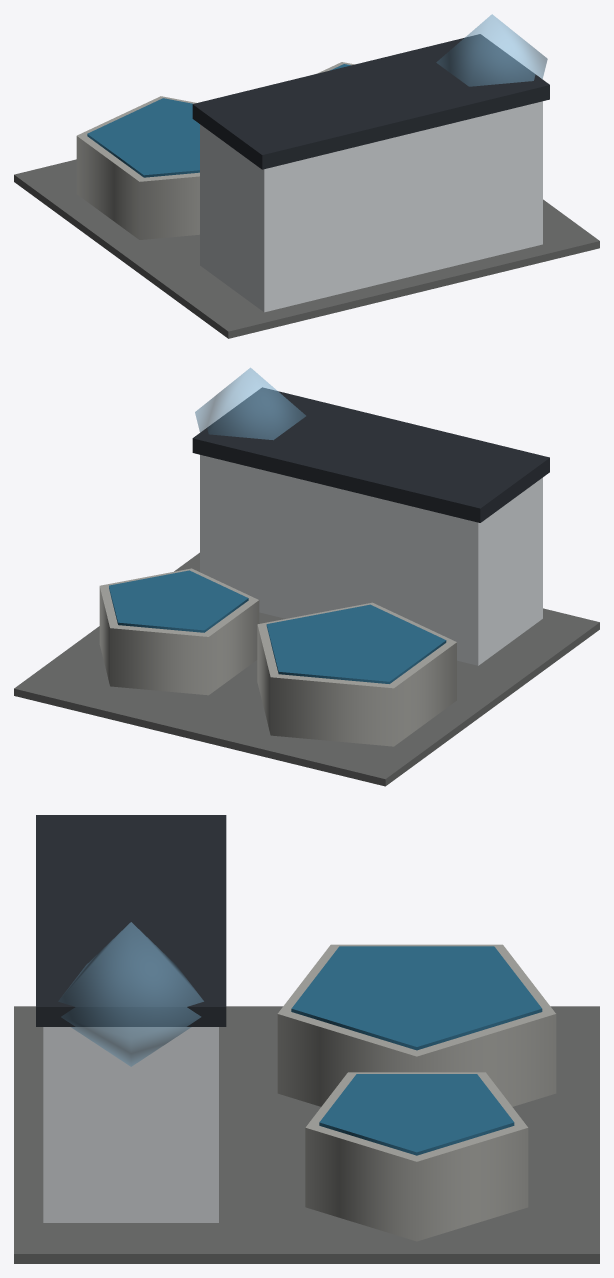
The model's file is bld_special_water_works_a08_lod2.glb.
The picture shows the model from 3 angles, top to bottom: view 1: azimuth 30°, elevation 25°; view 2: azimuth 150°, elevation 25°; view 3: azimuth 270°, elevation 25°; orthographic projection. The views are drawn at different scales.
Visible parts, largest first — view 1: body; view 2: body; view 3: body.
Boxes of the visible parts, x1,y1,x2,y2 form: body: (14,14,599,338); body: (14,367,599,786); body: (14,815,599,1263).
Size of the model in its own units: 8 by 4.5 by 8.
